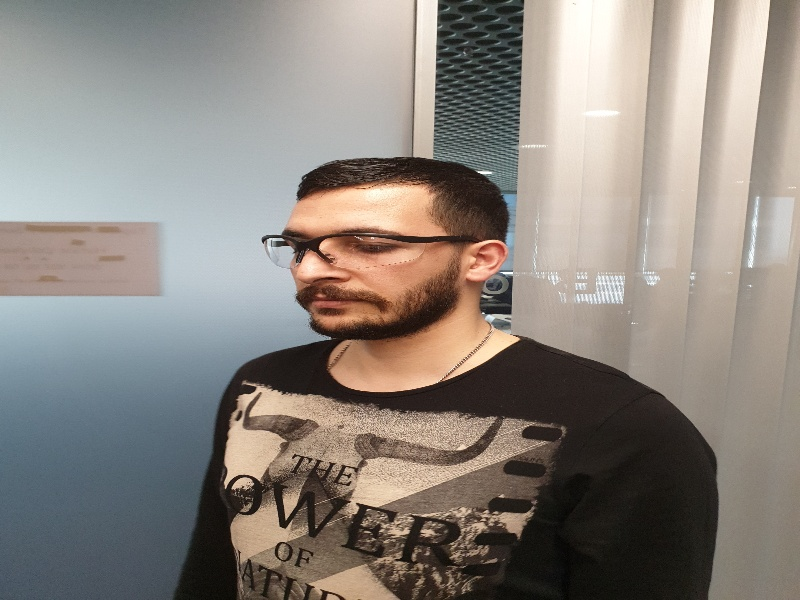Gozluk: (261, 233, 475, 267)
